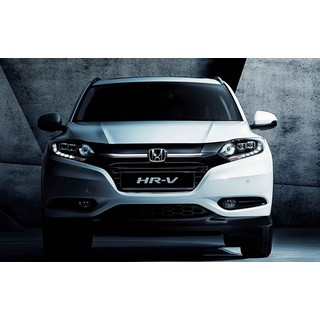car: (40, 78, 271, 253)
